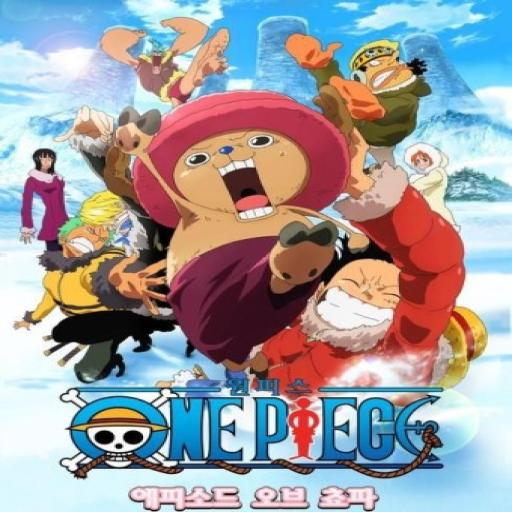Luffy: (289, 240, 432, 349)
Nami: (405, 139, 447, 176)
NicoRobin: (26, 143, 65, 185)
Usopp: (346, 34, 429, 92)
Zoro: (44, 216, 111, 263)
sanji: (75, 188, 137, 230)
